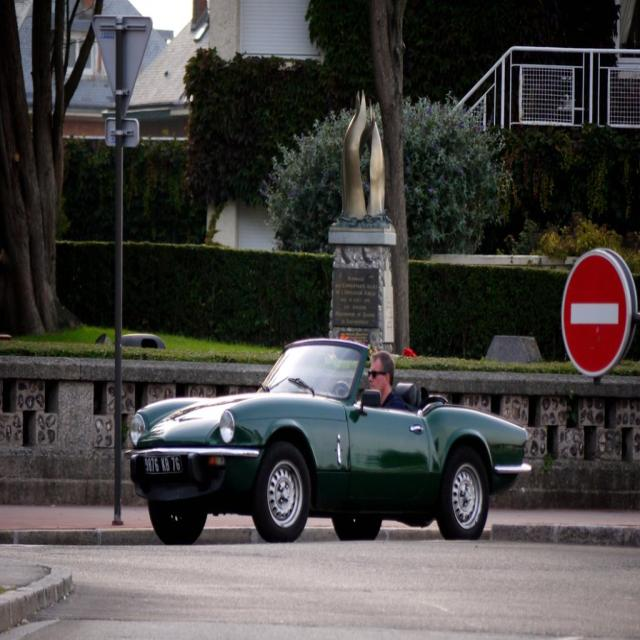Passenger Car: (132, 340, 531, 549)
